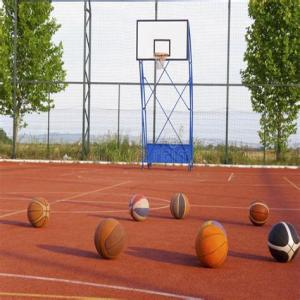Basket: (267, 220, 300, 264), (195, 225, 229, 266), (95, 217, 126, 260), (28, 194, 50, 228), (248, 200, 270, 226), (130, 192, 149, 222), (170, 191, 189, 220)
